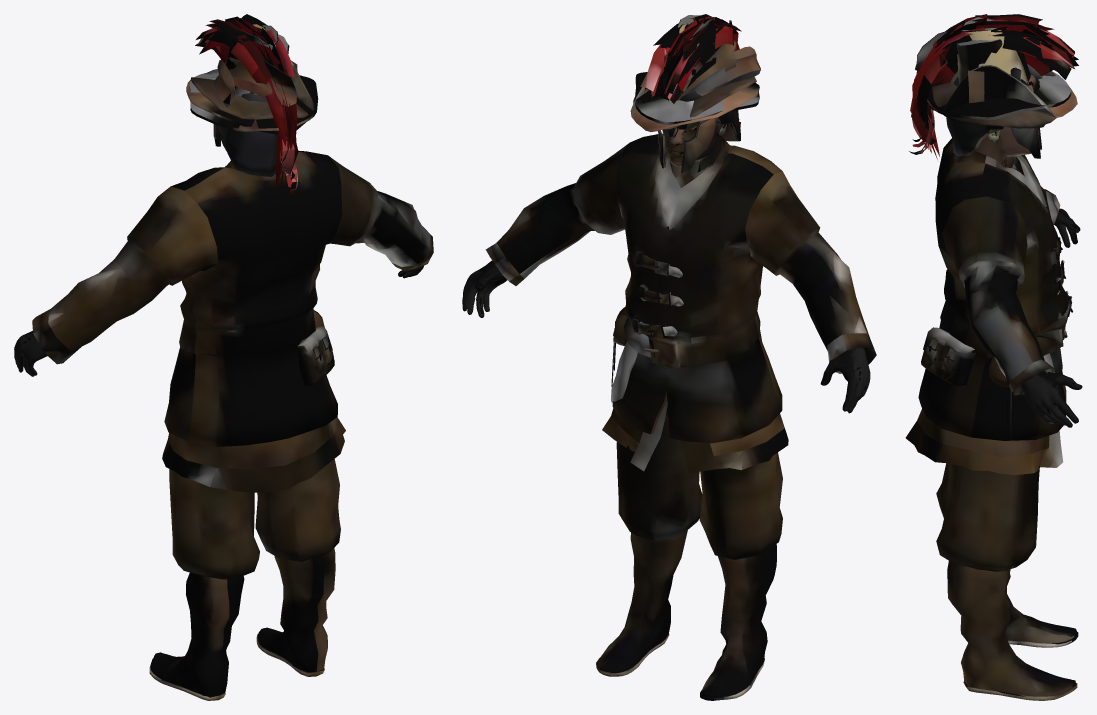
3 views of the same model, side by side, from view 1: azimuth 30°, elevation 25°; view 2: azimuth 150°, elevation 25°; view 3: azimuth 270°, elevation 25° (orthographic). The views are drawn at different scales.
Parts seen in each view (by area): view 1: mesh_0; view 2: mesh_0; view 3: mesh_0.
Boxes of the visible parts, x1,y1,x2,y2 form: mesh_0: (14, 14, 433, 700); mesh_0: (462, 14, 876, 700); mesh_0: (905, 14, 1082, 700).
Bounding box in the file's own units: 49.97 × 77.58 × 19.2.
Materials: 1 (1 with a texture image).
